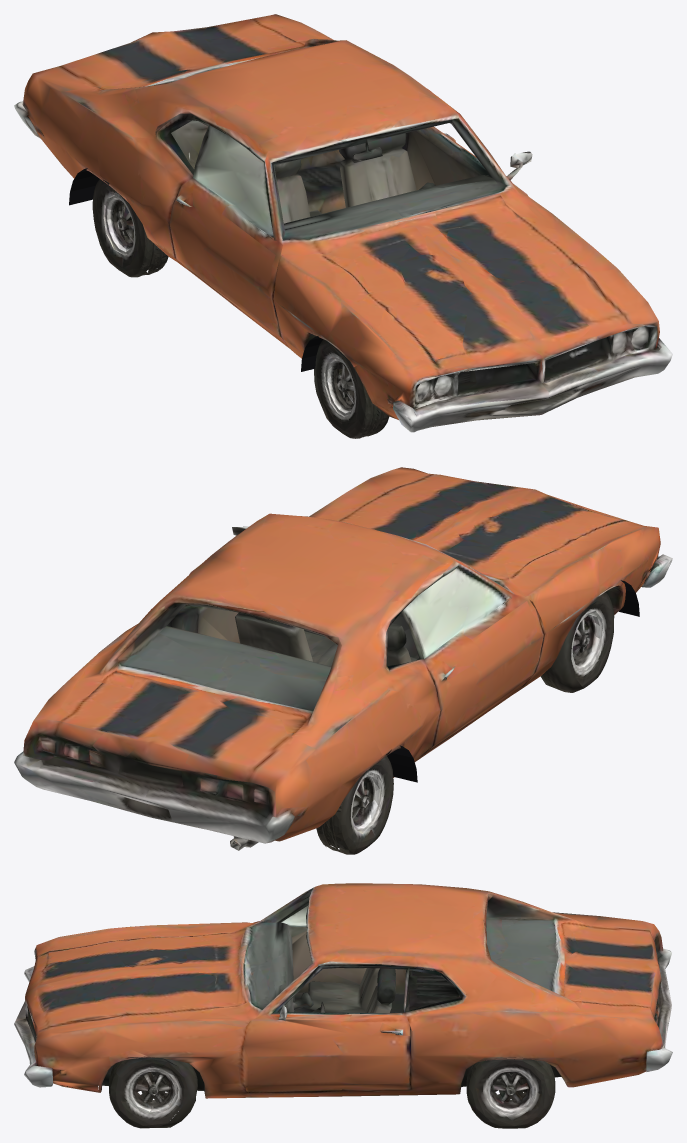
File: car_classic_lod.glb
3 renders of one model, top to bottom at view 1: azimuth 30°, elevation 25°; view 2: azimuth 150°, elevation 25°; view 3: azimuth 270°, elevation 25°, orthographic. The views are drawn at different scales.
Parts seen in each view (by area): view 1: body, wheel_RR, wheel_FR, liner_RR; view 2: body, wheel_RR, wheel_FR, liner_RR; view 3: body, wheel_RL, wheel_FL.
Part boxes in pixels (box(x1,y1,x2,y2)): body: box(14, 14, 672, 432); wheel_RR: box(92, 172, 168, 277); wheel_FR: box(317, 341, 389, 438); liner_RR: box(69, 168, 99, 205); body: box(14, 467, 672, 854); wheel_RR: box(316, 750, 393, 854); wheel_FR: box(569, 585, 623, 688); liner_RR: box(386, 745, 417, 782); body: box(14, 883, 672, 1128); wheel_RL: box(466, 1057, 555, 1128); wheel_FL: box(98, 1056, 184, 1128).
Bounding box in the file's own units: 2.05 × 1.38 × 4.9.
2 materials, 1 textured.
